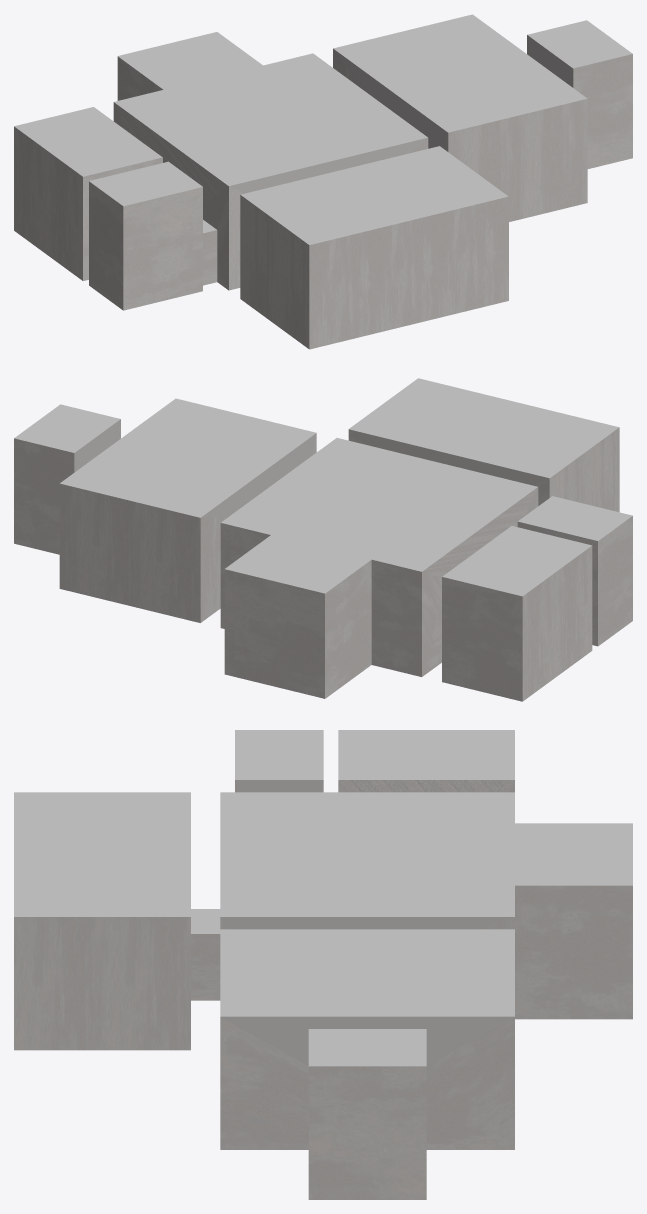
File: cabinet.fbx
3 views of the same model, one above another, from view 1: azimuth 30°, elevation 25°; view 2: azimuth 150°, elevation 25°; view 3: azimuth 270°, elevation 25° (orthographic). The views are drawn at different scales.
Parts seen in each view (by area): view 1: building; view 2: building; view 3: building.
Part boxes in pixels (bbox=[...]): building: bbox=[14, 14, 632, 349]; building: bbox=[14, 378, 632, 701]; building: bbox=[14, 730, 632, 1199].
Size of the model in its own units: 2700 by 500 by 2100.
